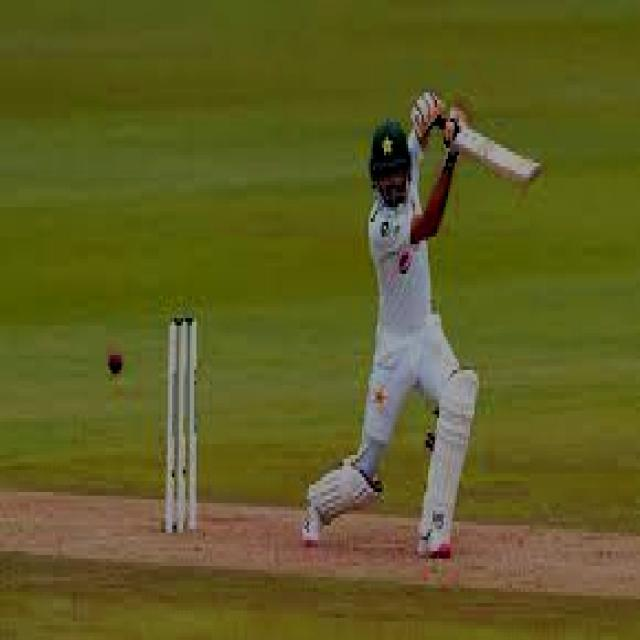bat: (454, 128, 552, 187)
toe: (515, 165, 550, 185)
